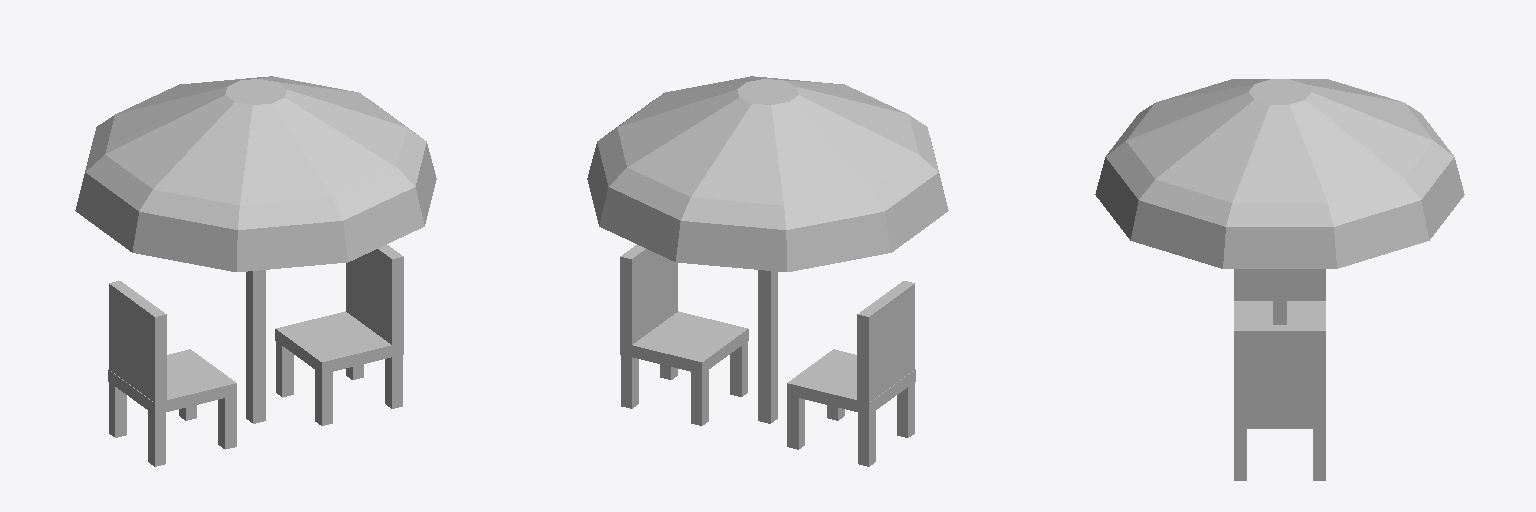
The model's file is Props_Coffee shop chair.obj.
3 renders of one model, left to right at view 1: azimuth 30°, elevation 25°; view 2: azimuth 150°, elevation 25°; view 3: azimuth 270°, elevation 25°, orthographic.
Visible parts, largest first — view 1: Props_Coffee_shop_chair; view 2: Props_Coffee_shop_chair; view 3: Props_Coffee_shop_chair.
Boxes of the visible parts, <box> form: Props_Coffee_shop_chair: <box>75,76,436,466</box>; Props_Coffee_shop_chair: <box>587,76,948,466</box>; Props_Coffee_shop_chair: <box>1095,79,1464,480</box>.
Size of the model in its own units: 104 by 108 by 110.